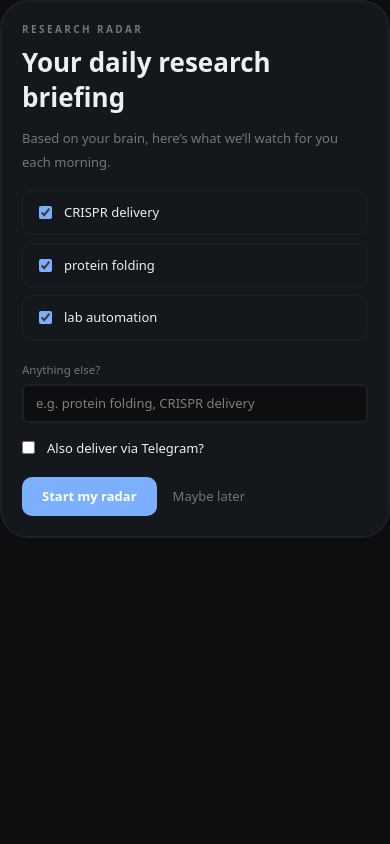
RadarOnboardingCard › adds a custom topic via the text input on Enter
Check: the checkbox labelled "CRISPR delivery" is shown, box [39, 206, 52, 219]
Type "scaling laws" into the field with placeholder "e.g. protein folding, CRISPR delivery" at (195, 403), box [22, 384, 368, 423]
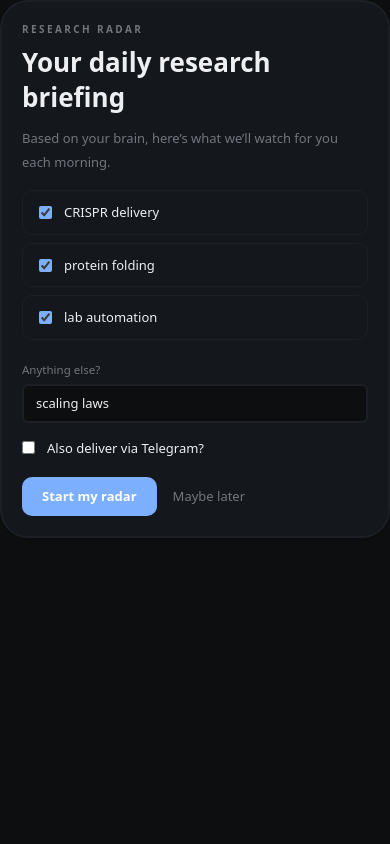
Press Enter in the field with placeholder "e.g. protein folding, CRISPR delivery", box [22, 384, 368, 423]
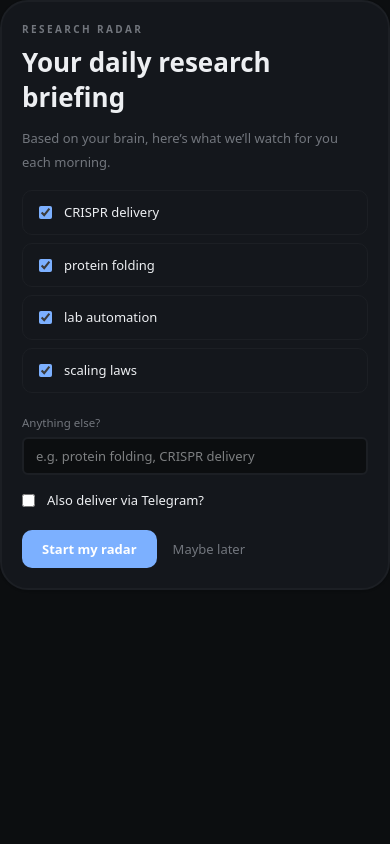
Check: the checkbox labelled "scaling laws" is checked, box [39, 364, 52, 377]
Check: the field with placeholder "e.g. protein folding, CRISPR delivery" is empty, box [22, 437, 368, 475]
